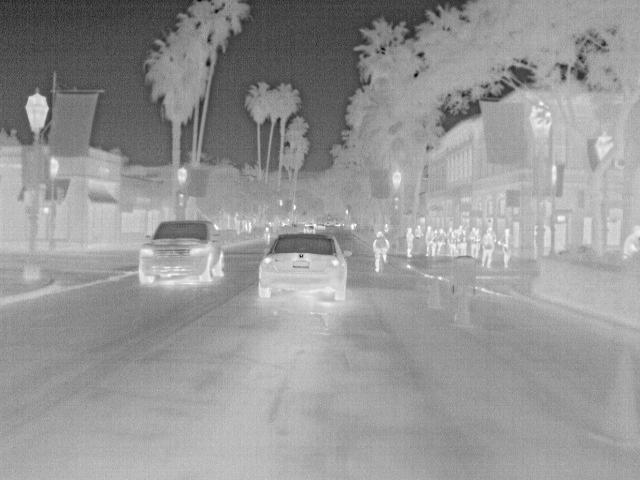car: (255, 234, 351, 302), (136, 219, 224, 290), (301, 223, 317, 235)
person: (371, 230, 390, 274), (620, 224, 639, 260), (498, 229, 511, 268), (480, 233, 492, 270), (425, 225, 437, 258), (404, 226, 416, 258)
